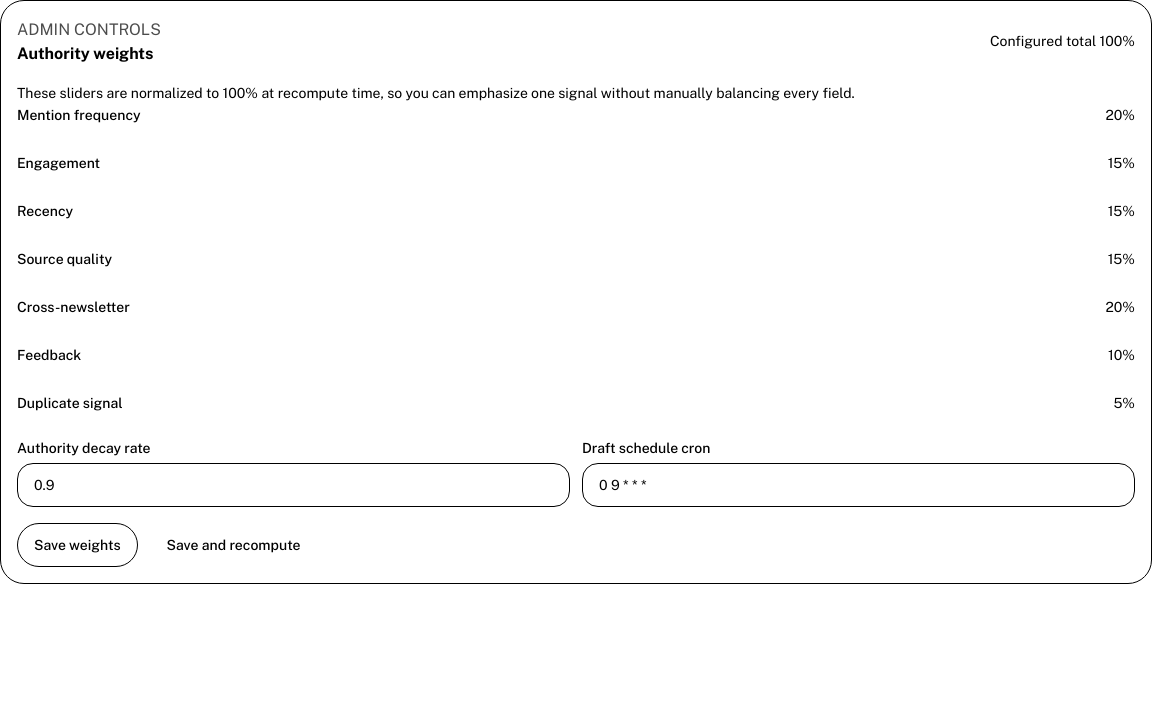
Test: AuthorityWeightControls › saves weights through the JSON route
Click the button "Save weights" at (77, 545), box x1=17 y1=523 x2=138 y2=567
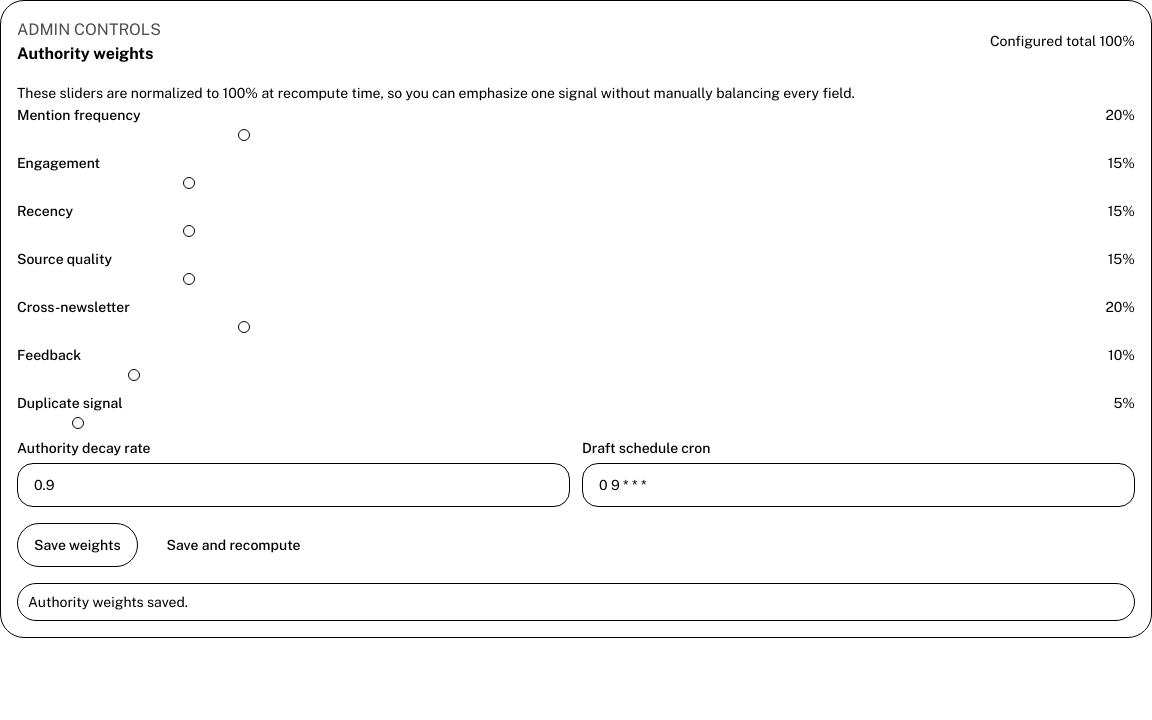
Check: the message reads "Authority weights saved.", box x1=28 y1=594 x2=188 y2=610
